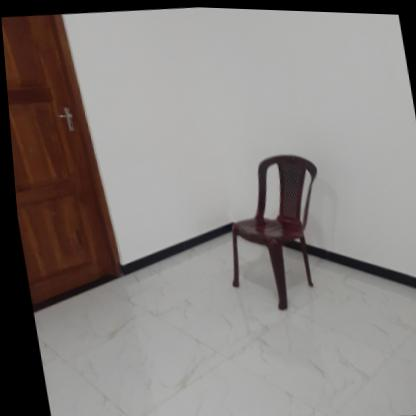Ceramic floor: (28, 227, 416, 416)
Chair: (209, 147, 335, 315)
